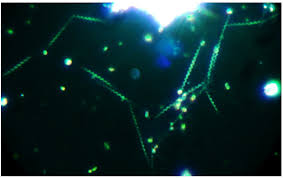sphyillis: (155, 76, 204, 114), (47, 14, 104, 45), (82, 66, 130, 101), (207, 13, 228, 80), (174, 42, 201, 91), (129, 102, 149, 164), (226, 15, 276, 28), (3, 52, 32, 74), (203, 83, 220, 109), (146, 147, 158, 170)
